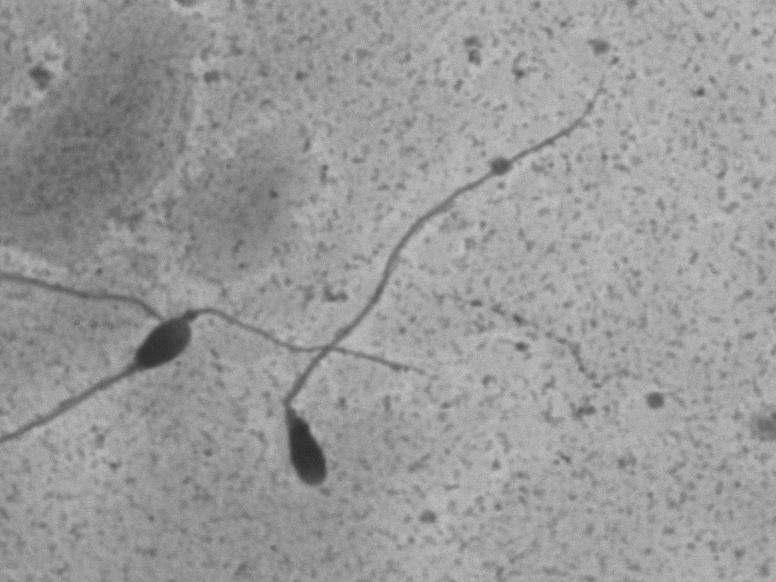Abnormal: (269, 59, 637, 513), (35, 295, 197, 468)
